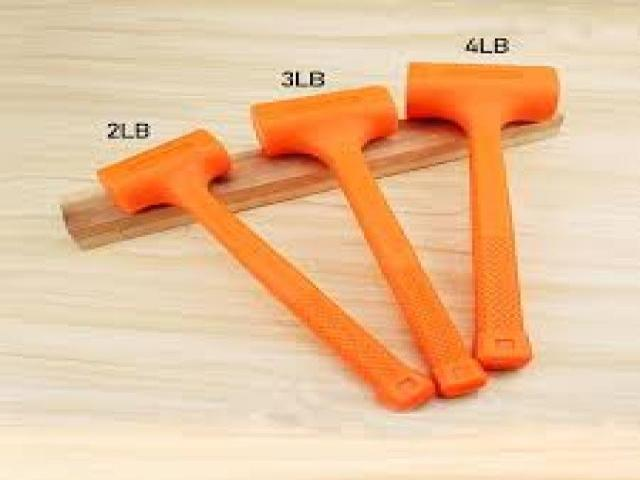hammer: (98, 128, 436, 410), (251, 85, 484, 400), (405, 59, 560, 371)
